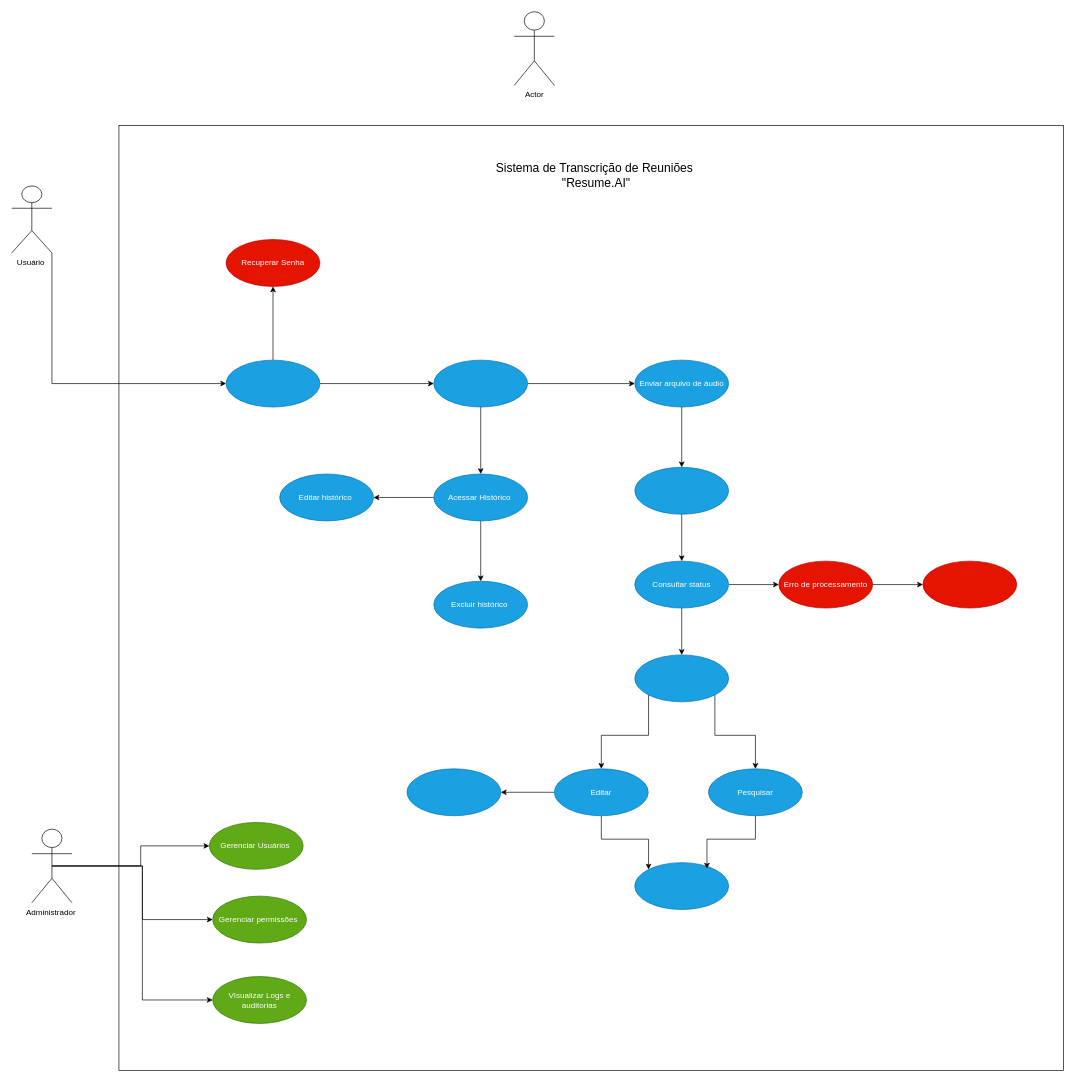
Some shapes in this 1075 by 1082 pixel diagram are drawn without their labels. Here are the shapes that lost their labels. From the top down, the centre of each, then its label:
point (272, 383): Realizar login
point (480, 383): Cadastrar reunião
point (681, 490): Processar transcrição
point (969, 584): Nova tentativa
point (681, 678): Visualizar transcrição
point (453, 792): Identificar Falantes
point (681, 886): Exportar (PDF, DOCX, TXT)
